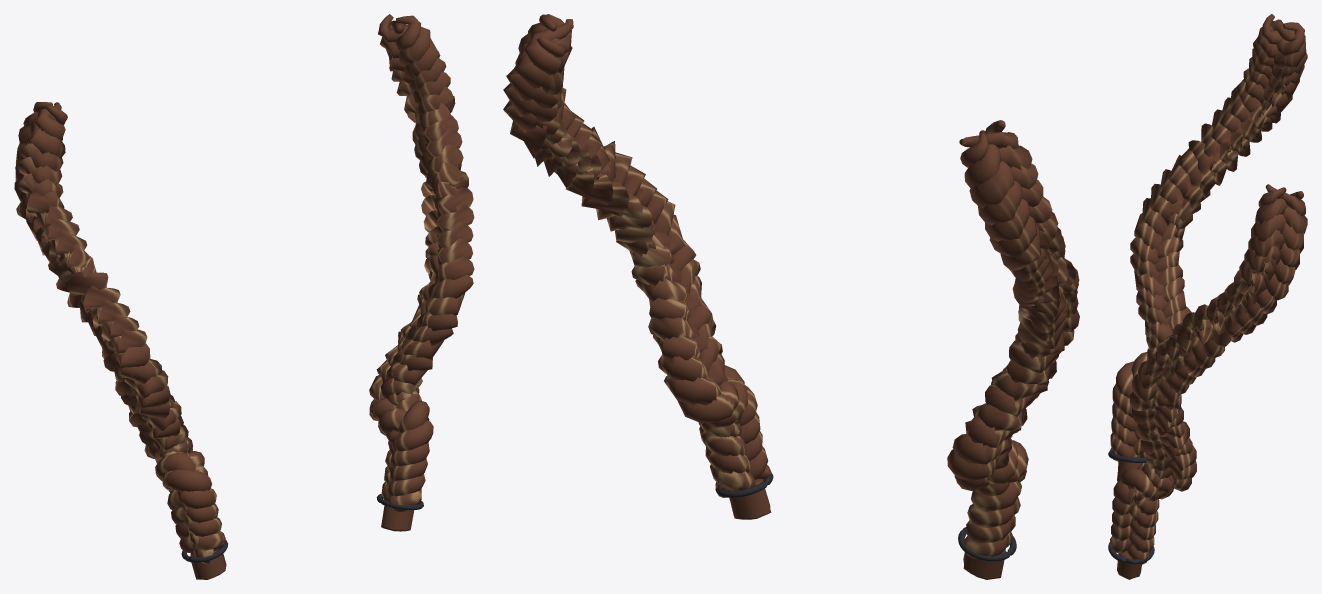
Rendered from Highlights-4b8642ae93f0252-hair.glb.
3 views of the same model, side by side, from view 1: azimuth 30°, elevation 25°; view 2: azimuth 150°, elevation 25°; view 3: azimuth 270°, elevation 25° (orthographic). The views are drawn at different scales.
Parts seen in each view (by area): view 1: 226 hairLengths / Hair / chestnut226, 226 hairLengths / Hair / ties226; view 2: 226 hairLengths / Hair / chestnut226, 226 hairLengths / Hair / ties226; view 3: 226 hairLengths / Hair / chestnut226, 226 hairLengths / Hair / ties226.
Boxes of the visible parts, box(x1,y1,x2,y2) form: 226 hairLengths / Hair / chestnut226: box(14, 14, 474, 579); 226 hairLengths / Hair / ties226: box(181, 494, 423, 562); 226 hairLengths / Hair / chestnut226: box(503, 14, 1079, 579); 226 hairLengths / Hair / ties226: box(715, 474, 1016, 561); 226 hairLengths / Hair / chestnut226: box(1110, 14, 1307, 579); 226 hairLengths / Hair / ties226: box(1108, 451, 1154, 564).
Bounding box in the file's own units: 1.09 × 1.06 × 0.4447.
Materials: 2 (1 with a texture image).
